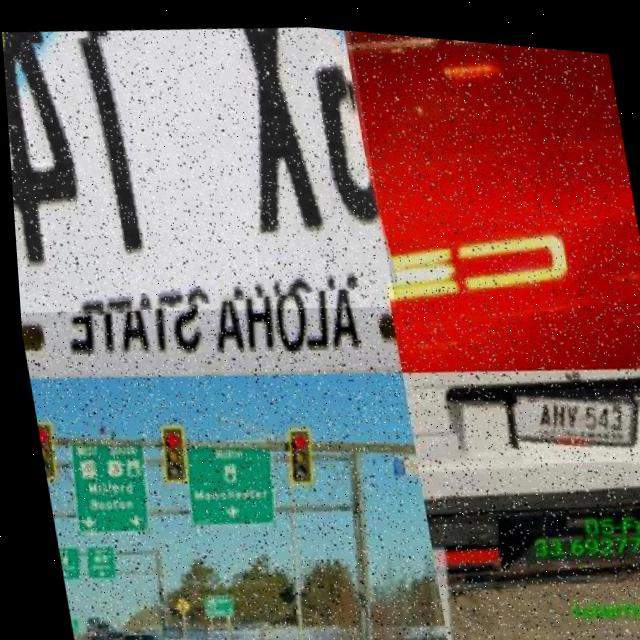LicensePlate: (0, 0, 393, 338), (505, 367, 640, 463)
